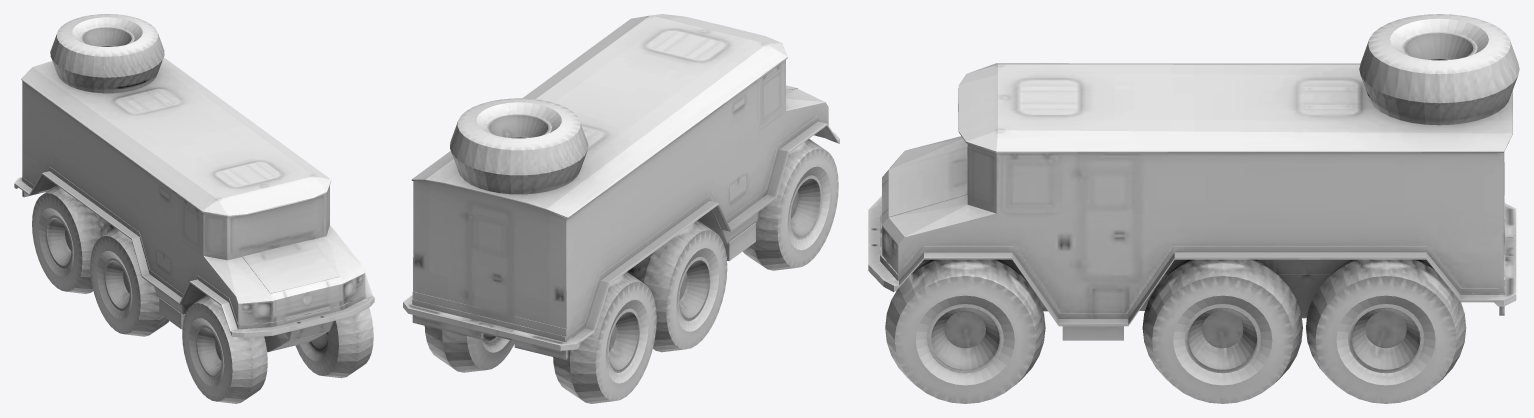
3 views of the same model, side by side, from view 1: azimuth 30°, elevation 25°; view 2: azimuth 150°, elevation 25°; view 3: azimuth 270°, elevation 25° (orthographic). The views are drawn at different scales.
Parts seen in each view (by area): view 1: Untitled; view 2: Untitled; view 3: Untitled.
Part boxes in pixels (left/top/right/bottom): Untitled: left=14, top=14, right=374, bottom=403; Untitled: left=403, top=14, right=839, bottom=403; Untitled: left=868, top=14, right=1519, bottom=403.
Bounding box in the file's own units: 26.55 × 41.04 × 74.77.
1 material, 1 textured.
